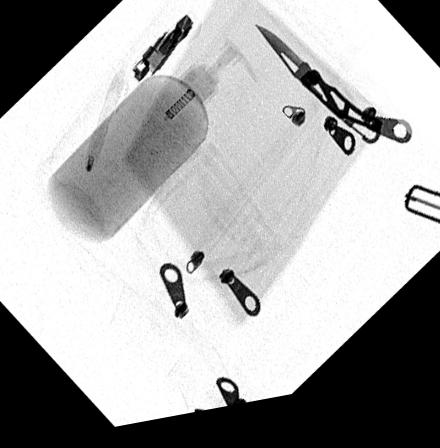Knife: (254, 31, 383, 158), (131, 18, 194, 87)
